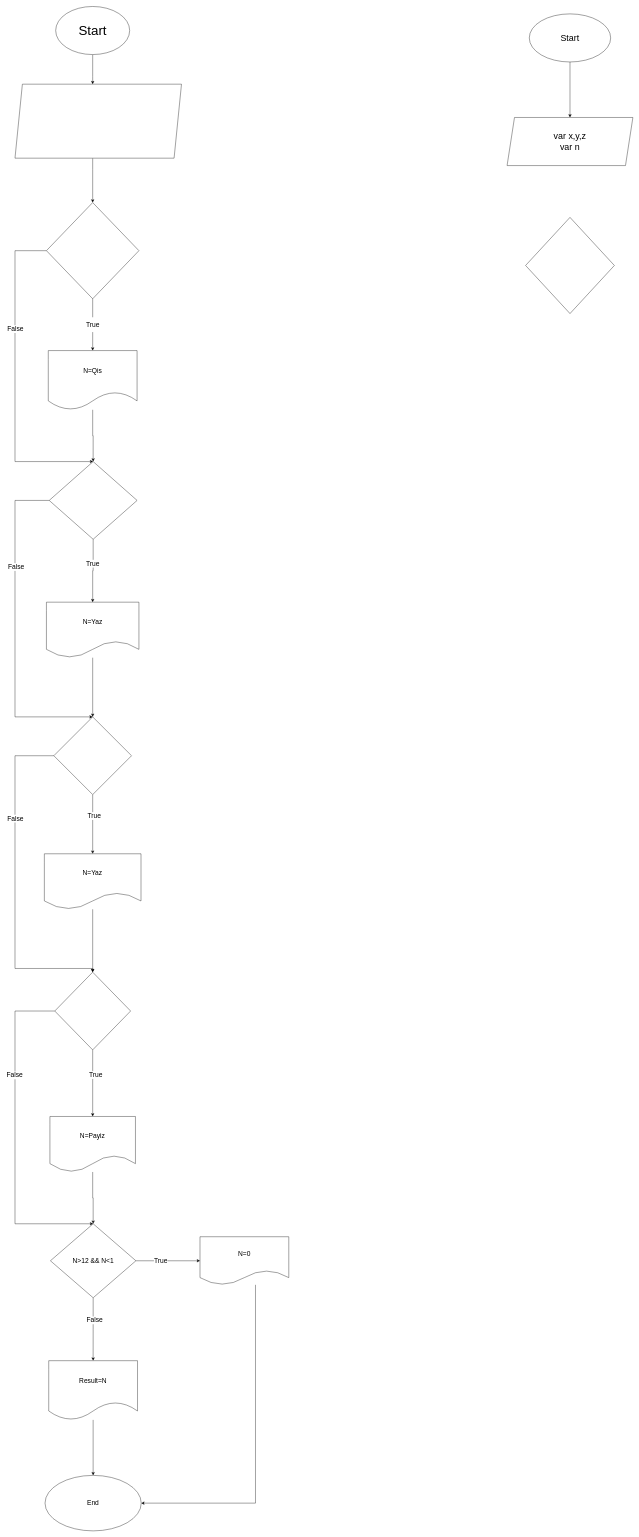
The diagram is 639 pixels wide and 1537 high, and some of its shapes have lost their labels. Each missing label, with the box of its shape:
N=6 && N==7 && N=8: (53, 717, 132, 795)
N=9 && N=10 && N=11: (54, 972, 131, 1050)
N==12 && N==1 && N=2: (46, 202, 139, 299)
N==3 && N==4 && N==5: (49, 461, 137, 539)
Qis=12,1,2 Yaz=3,4,5 Yay=6,7,8 Payiz=9,10,11 Var N: (15, 84, 181, 158)
